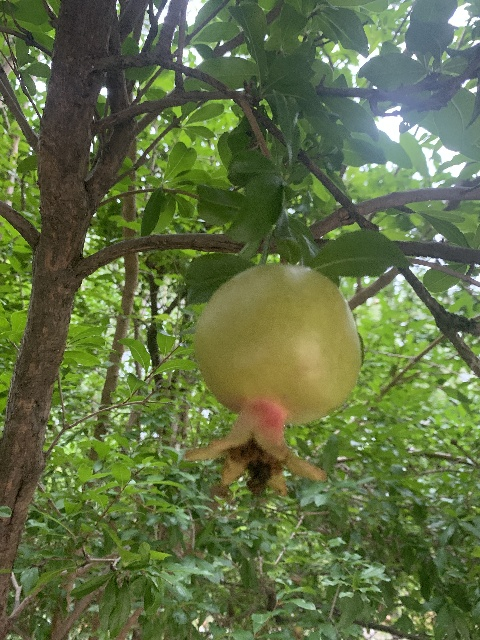mid-growth: (181, 265, 363, 497)
